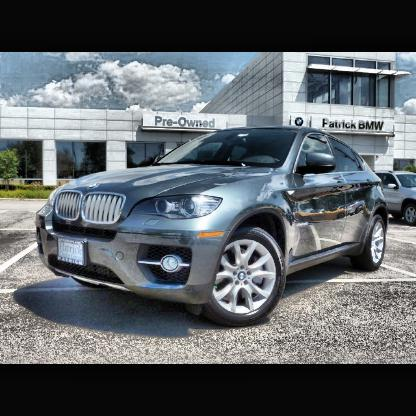BMW X6 SUV 2012: (36, 125, 390, 325)
